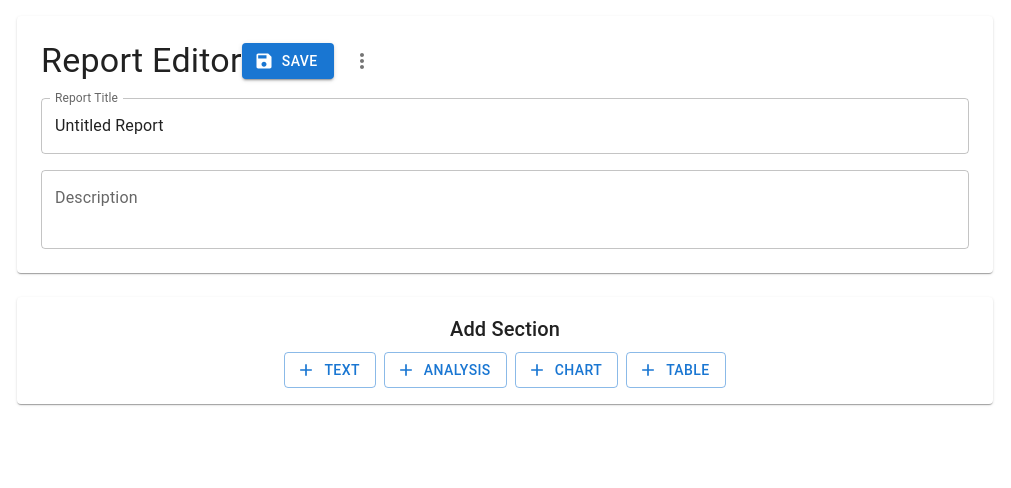
Scenario: ReportEditor › handles save errors
Click the button "Save" at (288, 61), box 242,43 -> 334,79
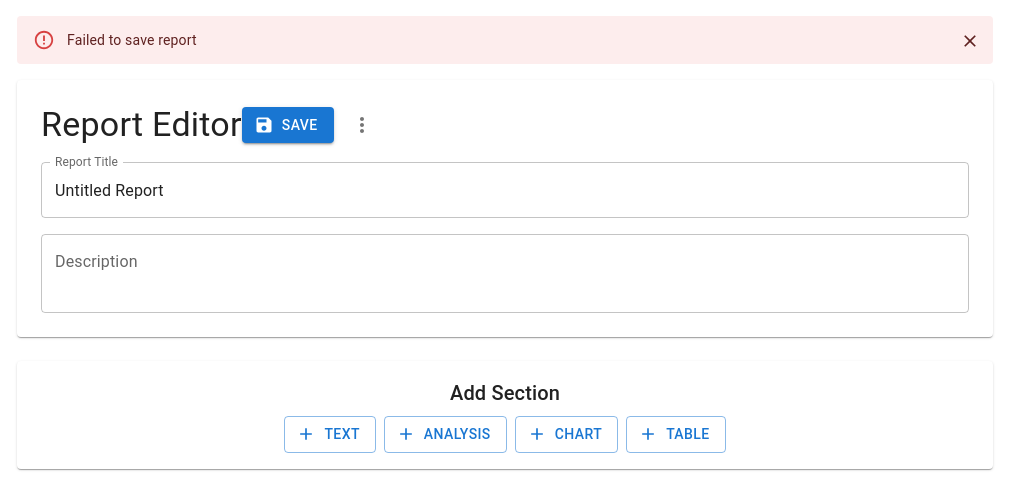
Check: the text "Failed to save report" is shown, box 67,32 -> 197,48
